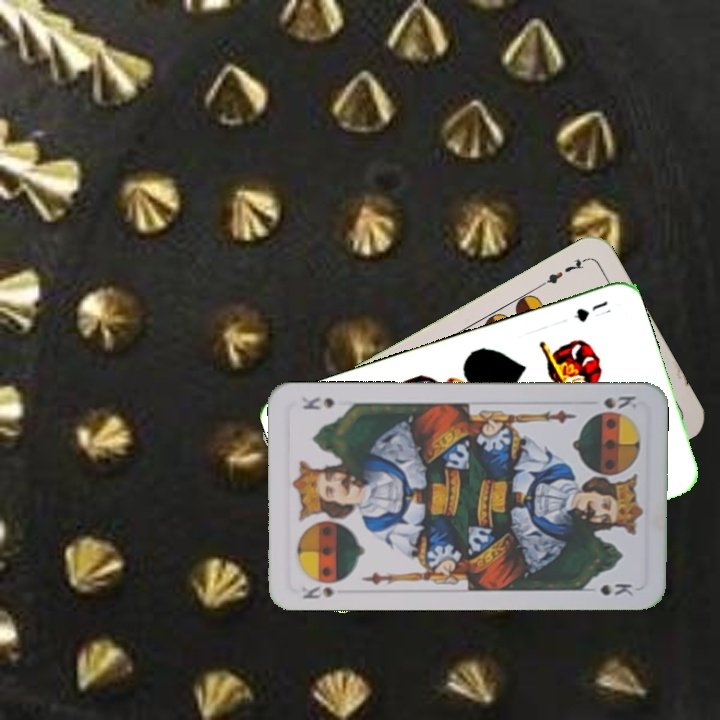E7: (536, 254, 590, 290)
GU: (569, 296, 611, 325)
SK: (297, 581, 337, 602), (599, 392, 638, 412)
